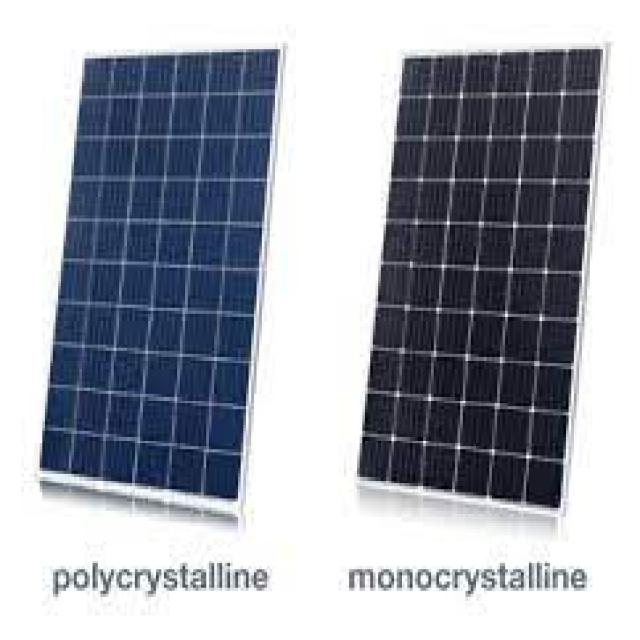no faulty: (383, 44, 587, 512), (60, 55, 277, 494)
